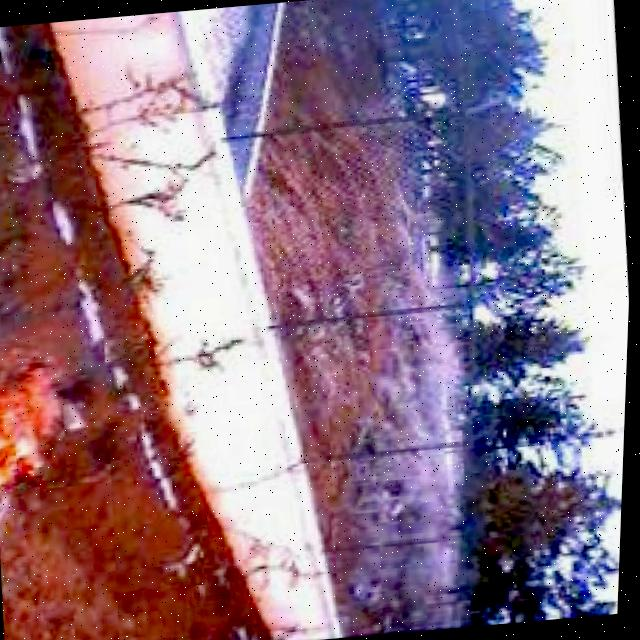Fire: (0, 356, 83, 532)
